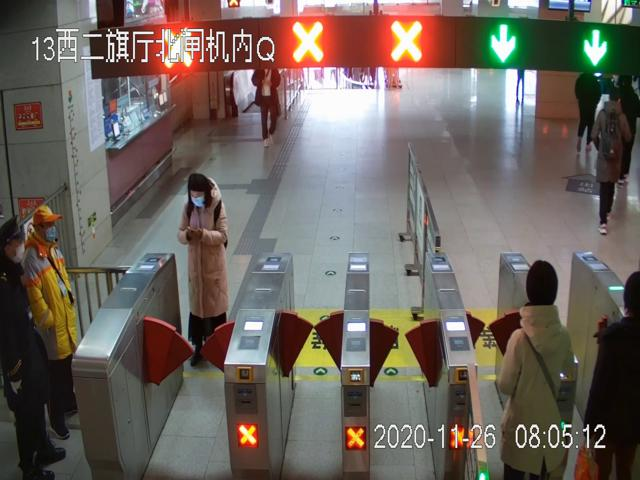person: (23, 202, 81, 440), (177, 173, 231, 368), (590, 95, 629, 237)
